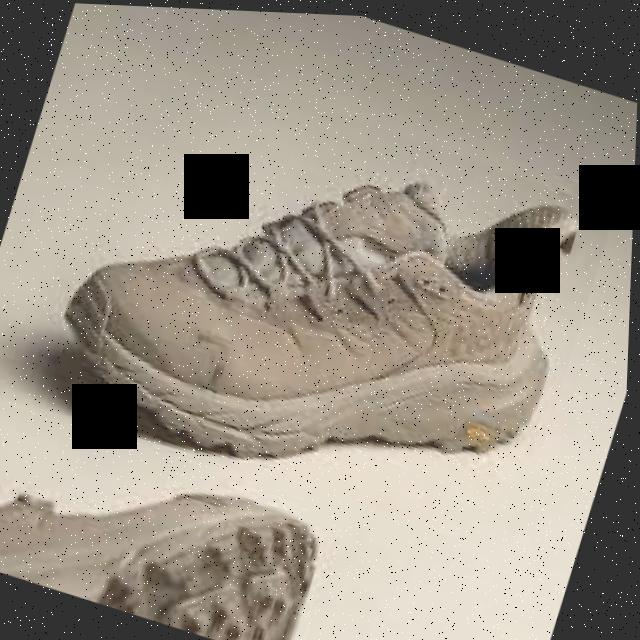shoe: (41, 155, 600, 472)
